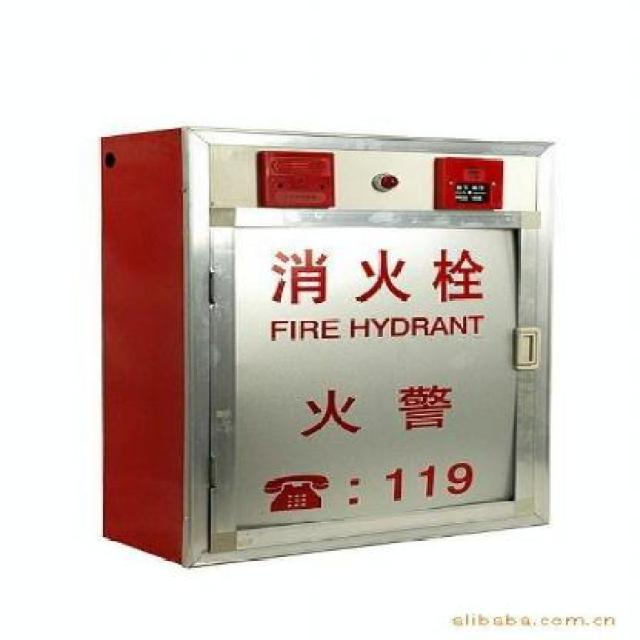firehydrant: (93, 119, 564, 576)
